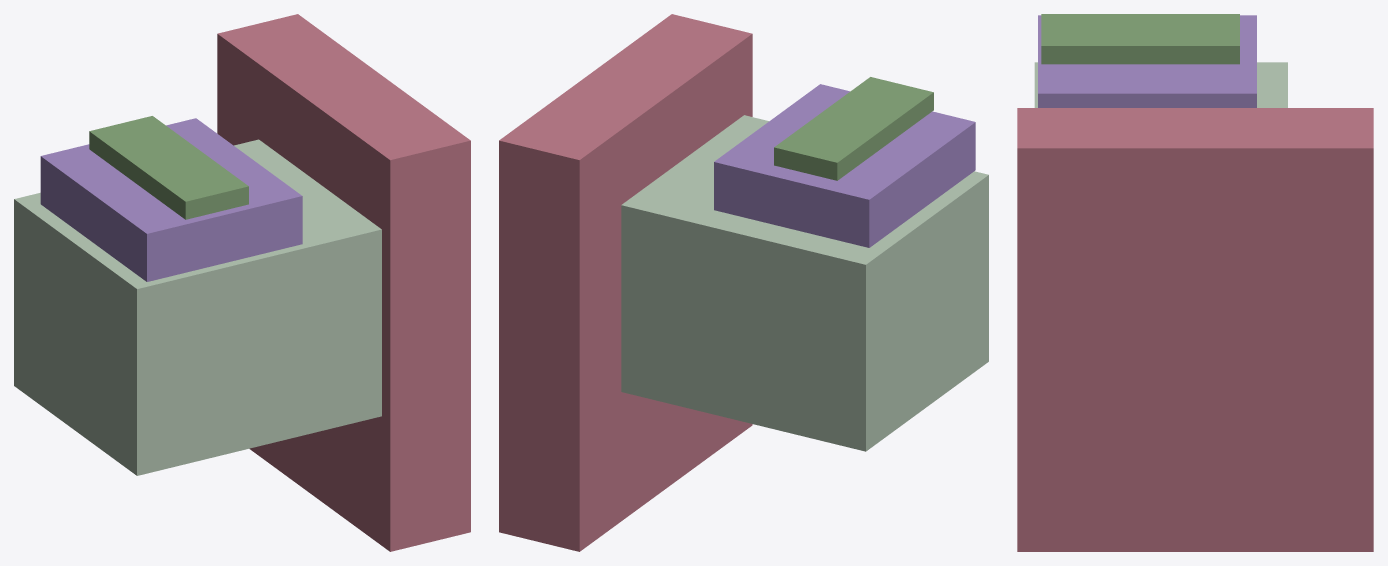
3 views of the same model, side by side, from view 1: azimuth 30°, elevation 25°; view 2: azimuth 150°, elevation 25°; view 3: azimuth 270°, elevation 25° (orthographic). The views are drawn at different scales.
Visible parts, largest first — view 1: world; view 2: world; view 3: world.
Part boxes in pixels (box(x1,y1,x2,y2)): world: box(14, 14, 470, 551); world: box(499, 14, 988, 551); world: box(1017, 14, 1373, 551).
Size of the model in its own units: 5.65 by 6.5 by 5.2.
